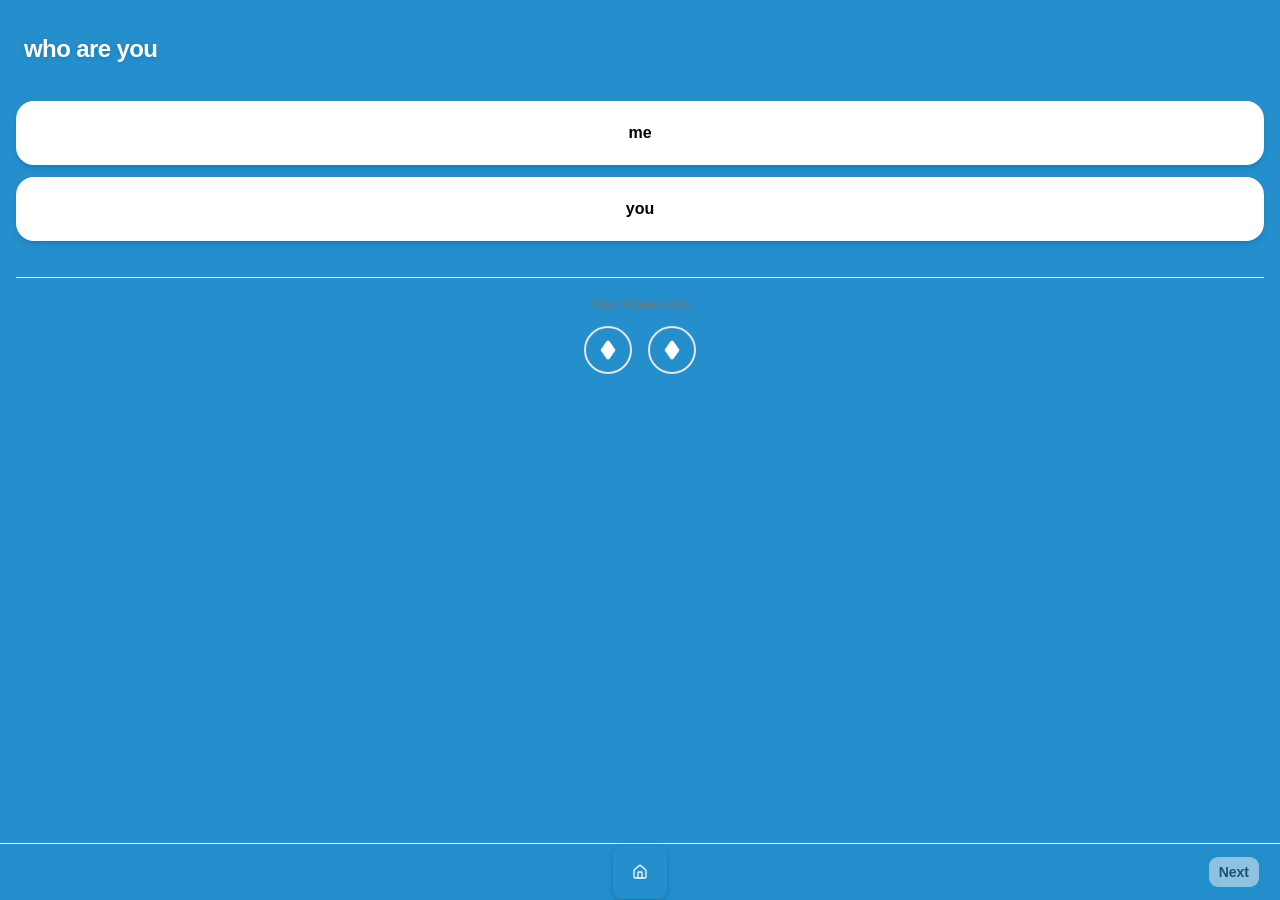
Test case: QuizCard › can send validate request
Expected: the button "you" is enabled, [16,177,1264,241]
What coordinates should you click on to do the following:
click the button "me"
I would click on:
 (640, 133)
Its box is [16,101,1264,165].
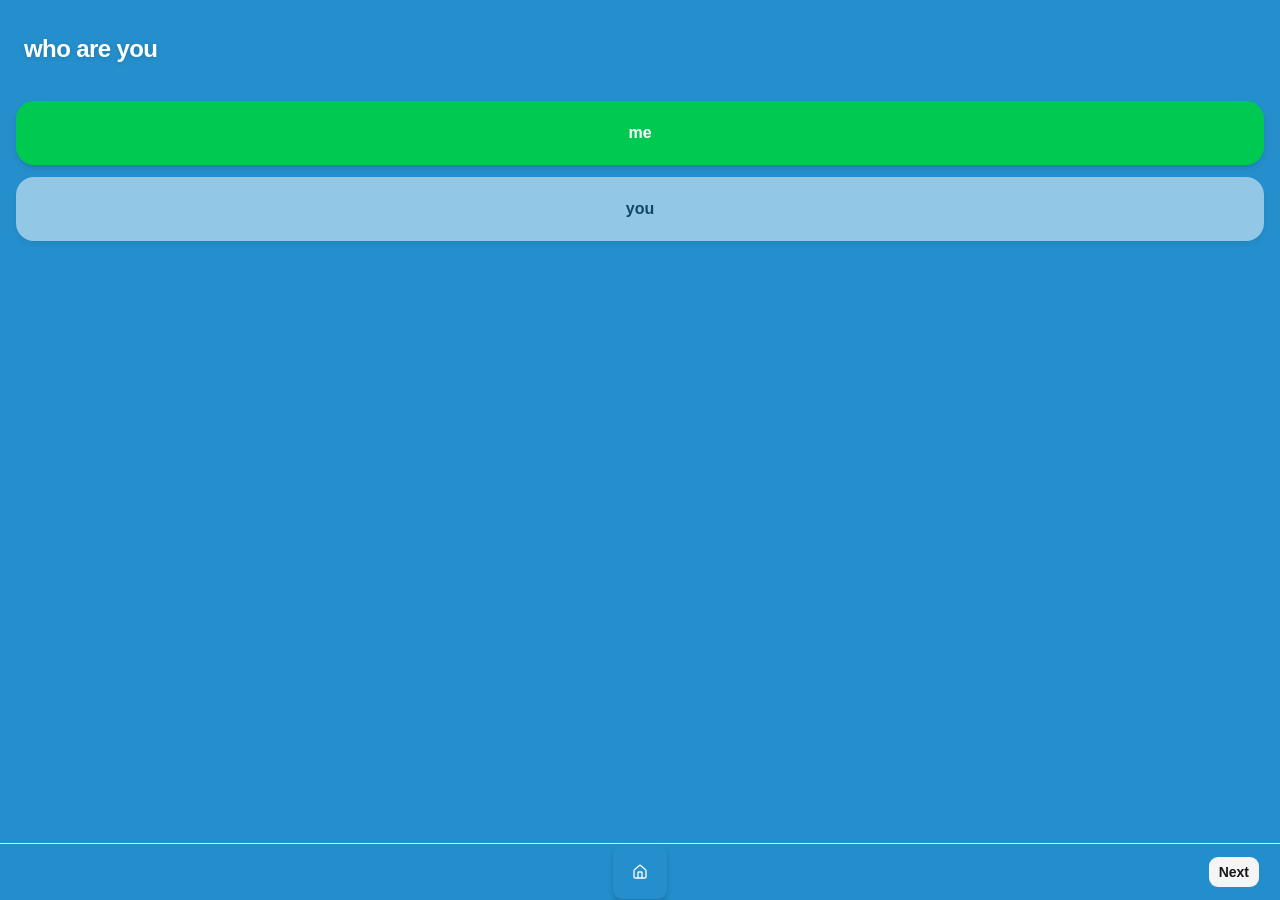
Result: the button "me" is disabled at [16,101,1264,165]
